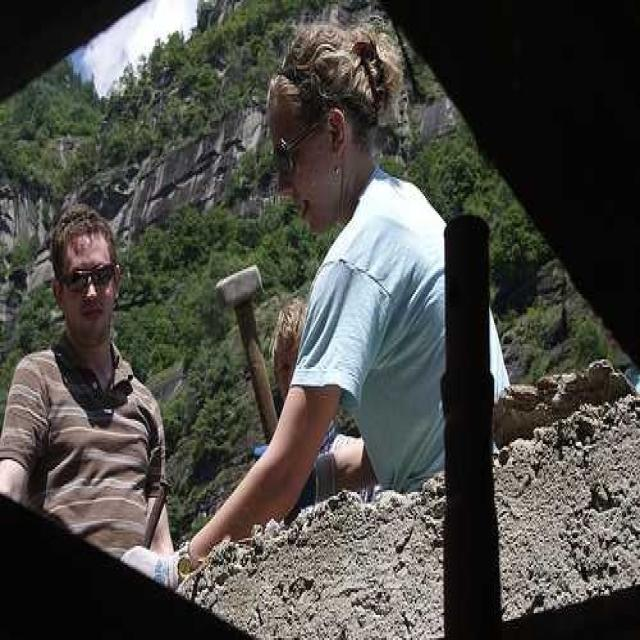hammer: (207, 268, 293, 455)
